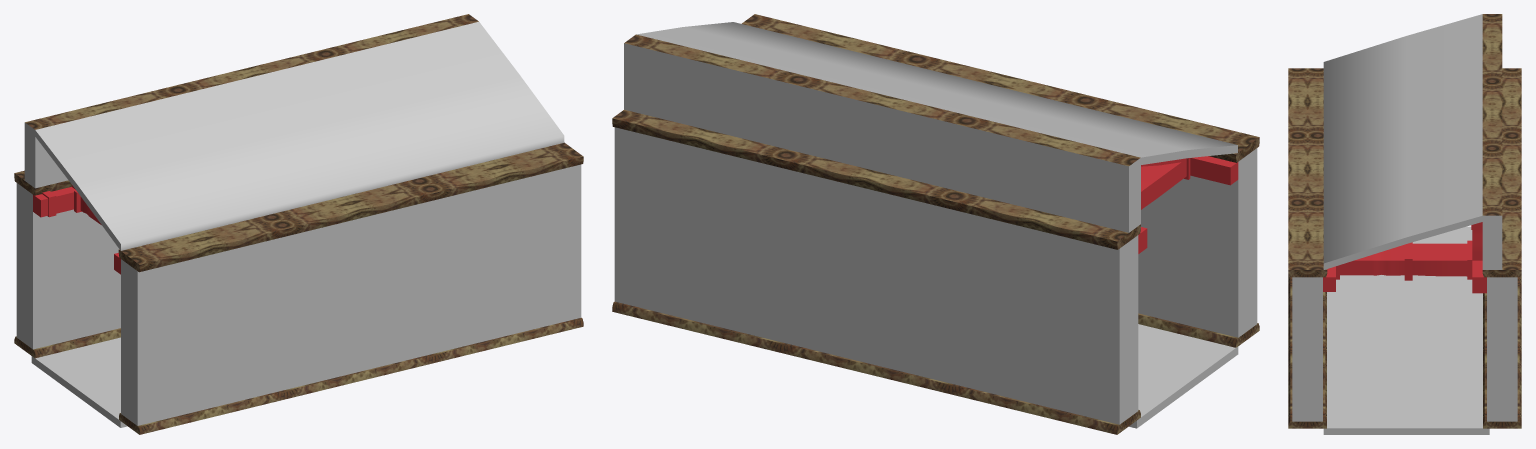
The model's file is Basic Hallway 04 Complex.fbx.
The picture shows the model from 3 angles, left to right: view 1: azimuth 30°, elevation 25°; view 2: azimuth 150°, elevation 25°; view 3: azimuth 270°, elevation 25°; orthographic projection. The views are drawn at different scales.
Parts seen in each view (by area): view 1: Plane_001; view 2: Plane_001; view 3: Plane_001.
Boxes of the visible parts, <box> form: Plane_001: <box>14,14,583,434</box>; Plane_001: <box>612,14,1259,434</box>; Plane_001: <box>1288,14,1521,434</box>.
Bounding box in the file's own units: 1258 × 638 × 615.
